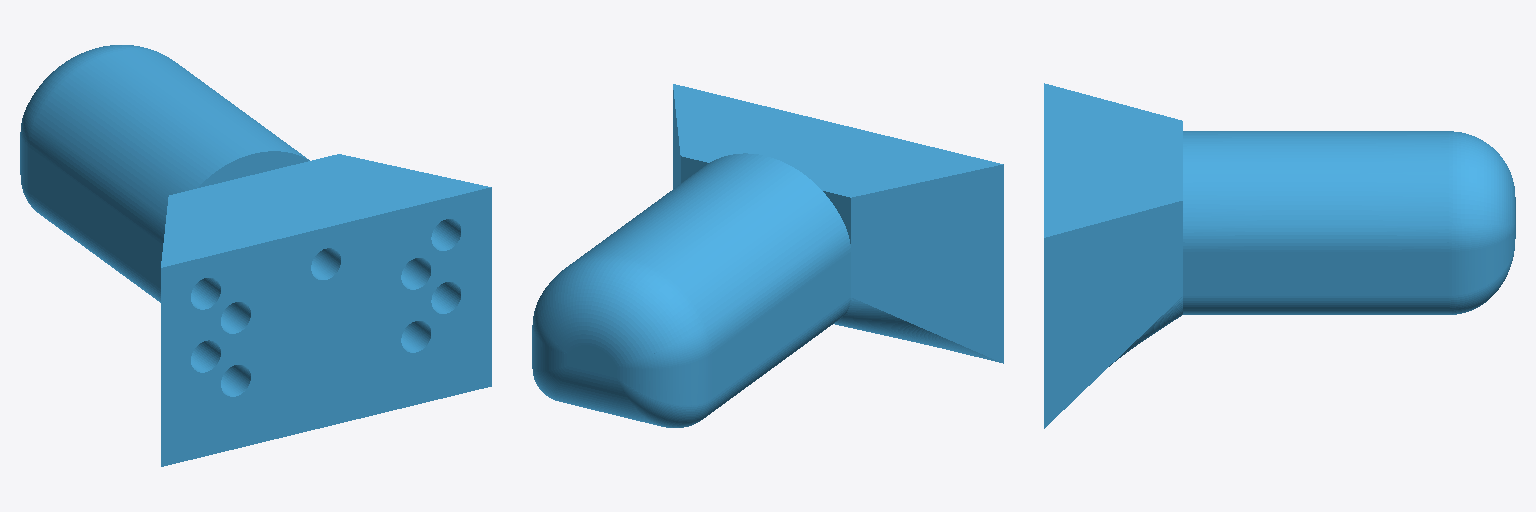
URDF robot description (test):
<!-- 同一 link 下多个 collision 几何重叠，本身通常不会触发“自碰撞”；它们会一起构成这个 link 的复合碰撞体 -->
<!-- 真正的风险不在“它们彼此撞上了”，而在“它们一起和外界接触时，接触法向、接触点数量、等效接触刚度变脏” -->
<!-- <inertial> 不写，Isaac Lab/Isaac Sim 不会简单把 link 变成“零质量不可动”，但会进入 importer/PhysX 的兜底逻辑；对指尖这种接触敏感部件，我不建议依赖这个兜底。 -->
<robot name="test">
  <link name="base_link"/>

  <joint name="tip_joint" type="fixed">
    <parent link="base_link"/>
    <child link="tip"/>
    <origin xyz="0 0 0" rpy="0 0 0"/>
  </joint>

  <link name="tip">
    <visual>
      <!-- thinner tip 标定探针：使用安装底面正方形中心作为锚点。
           整体 STL 外接盒的 x 范围约为 0..20.997mm，但这会把上半部分 tip 轮廓也算入
           安装底面高度。直接抽取 STL 中 y=0 的安装面点集，得到 x=0..19mm、
           z=-33..0mm，因此锚点取 p*=(9.5,0,-16.5)。沿用 custom tip canonical 约定：
           scale=0.001，
           rpy=(0,-pi/2,0)，使安装底面中心对齐 joint 原点，tip 生长方向落到 +y。 -->
      <origin xyz="-0.0165 0 -0.0095" rpy="0 -1.57079632679 0"/>
      <geometry>
        <mesh filename="thinner_finger_tip_soft.stl" scale="0.001 0.001 0.001"/>
      </geometry>
    </visual>
    <collision>
      <origin xyz="-0.0165 0 -0.0095" rpy="0 -1.57079632679 0"/>
      <geometry>
        <mesh filename="thinner_finger_tip_soft.stl" scale="0.001 0.001 0.001"/>
      </geometry>
    </collision>
  </link>
</robot>

--- Facts derived from the render (not from the file) ---
Views: 3 orthographic renders of the robot side by side, from view 1: azimuth 30°, elevation 25°; view 2: azimuth 150°, elevation 25°; view 3: azimuth 270°, elevation 25°.
Robot: test — 2 links, 1 joints (1 fixed); root link base_link; default pose: every joint at zero.
Links seen in each view (by area): view 1: tip; view 2: tip; view 3: tip.
Boxes of the visible links, x1,y1,x2,y2 form: tip: (20, 45, 491, 466); tip: (532, 84, 1003, 427); tip: (1044, 83, 1515, 428).
Size in the robot's own frame: 0.033 by 0.0425 by 0.021 metres.
1 mesh visuals loaded from 1 distinct referenced files (1 binary STL).
